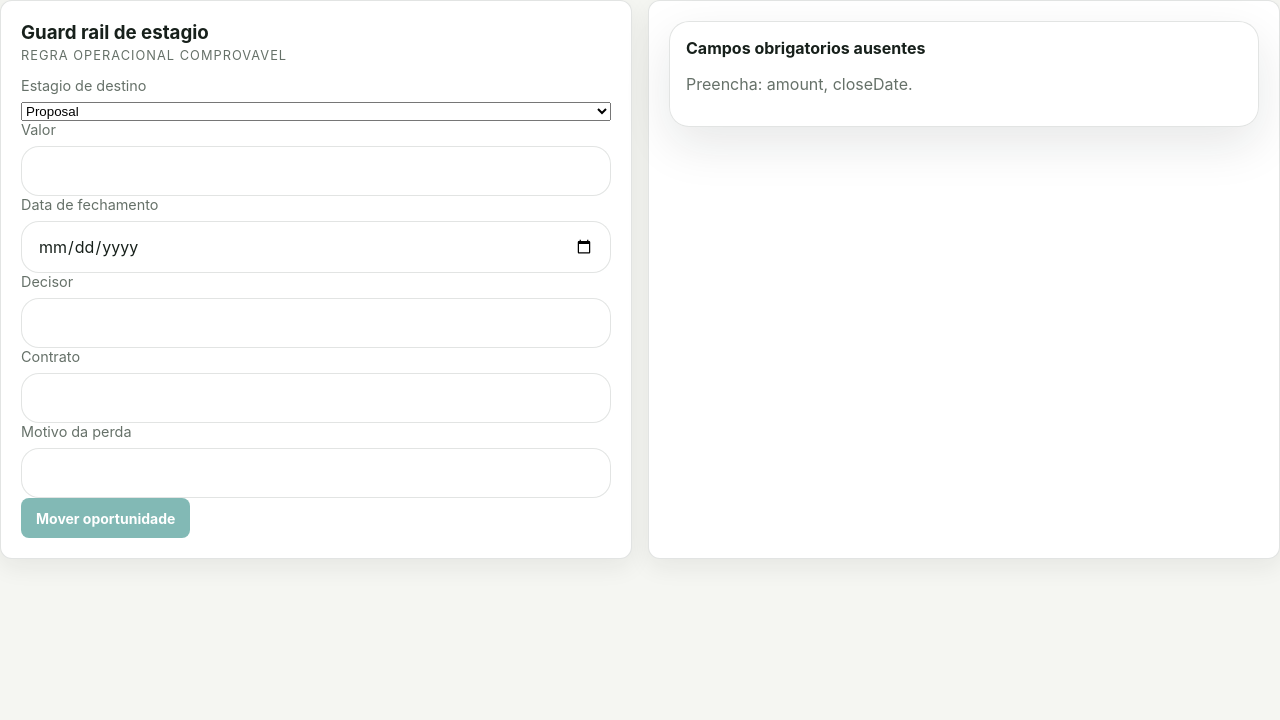
Scenario: Sprint2DomainExperience › requires the extra configured field for won
Select "Won" in the dropdown labelled "Estagio de destino": (316, 112) left=21, top=102, right=611, bottom=121
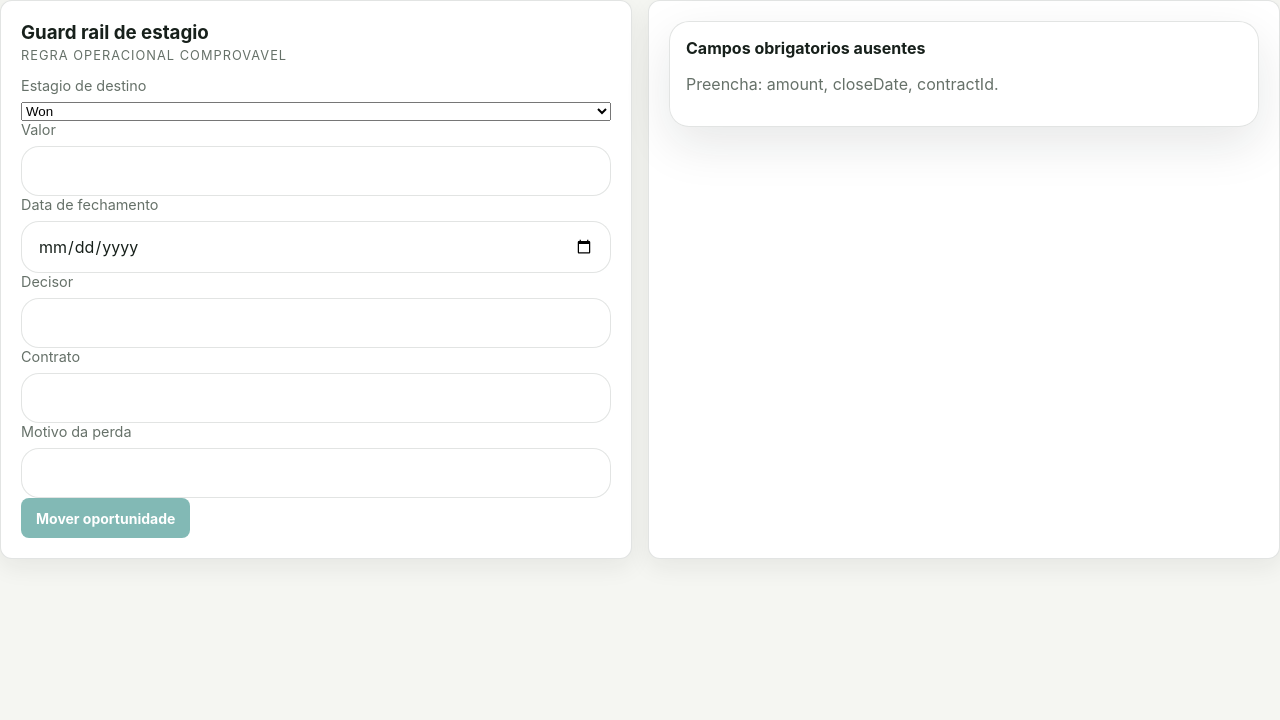
In the field named "Valor da oportunidade": (316, 171) left=21, top=146, right=611, bottom=196, type "150000"
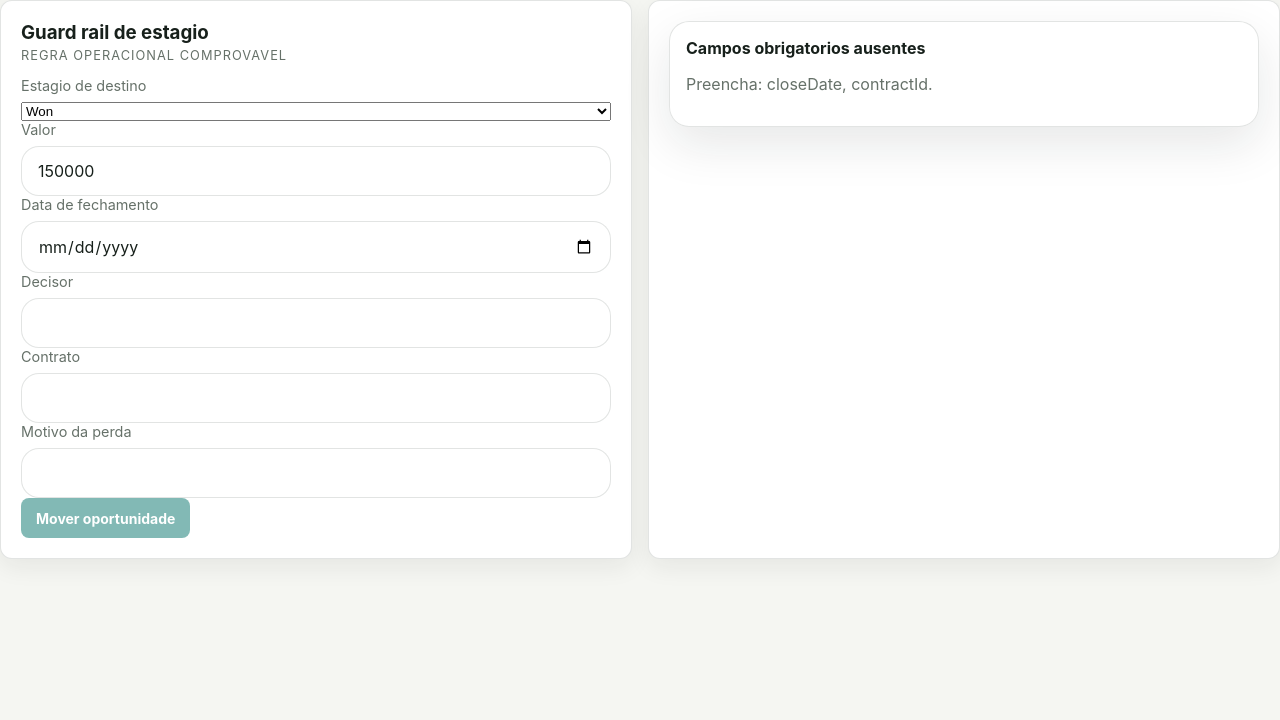
In the date field labelled "Data de fechamento": (316, 247) left=21, top=221, right=611, bottom=273, type "2026-08-01"
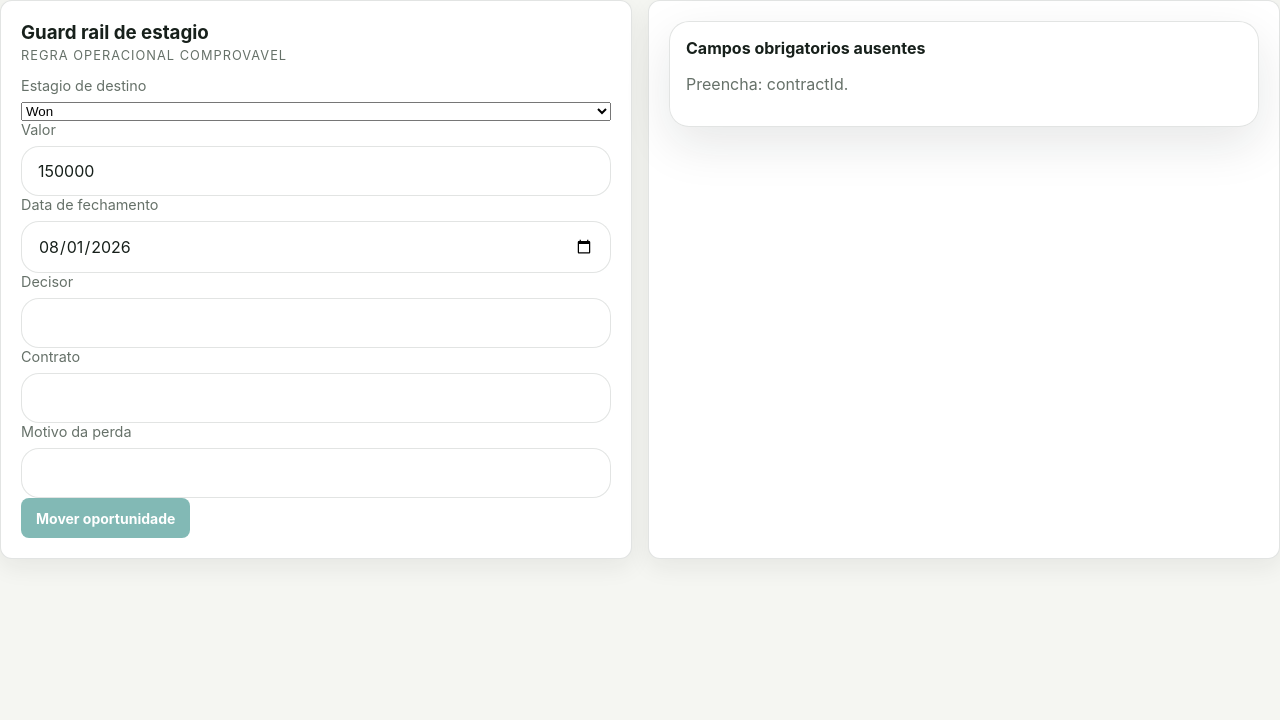
Expected: the message shows "contractId", left=686, top=74, right=848, bottom=94
In the field labelled "Contrato": (316, 398) left=21, top=373, right=611, bottom=423, type "contract-88"
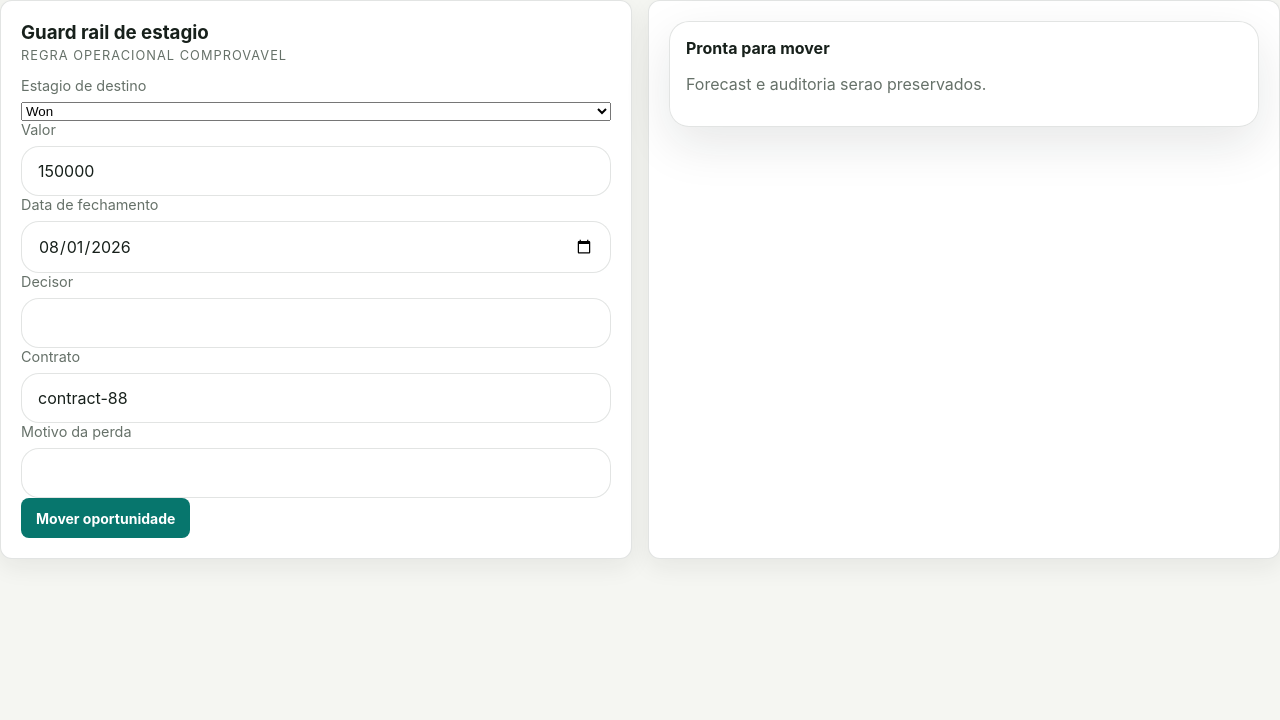
Expected: the button "Mover oportunidade" is enabled, left=21, top=498, right=190, bottom=538
